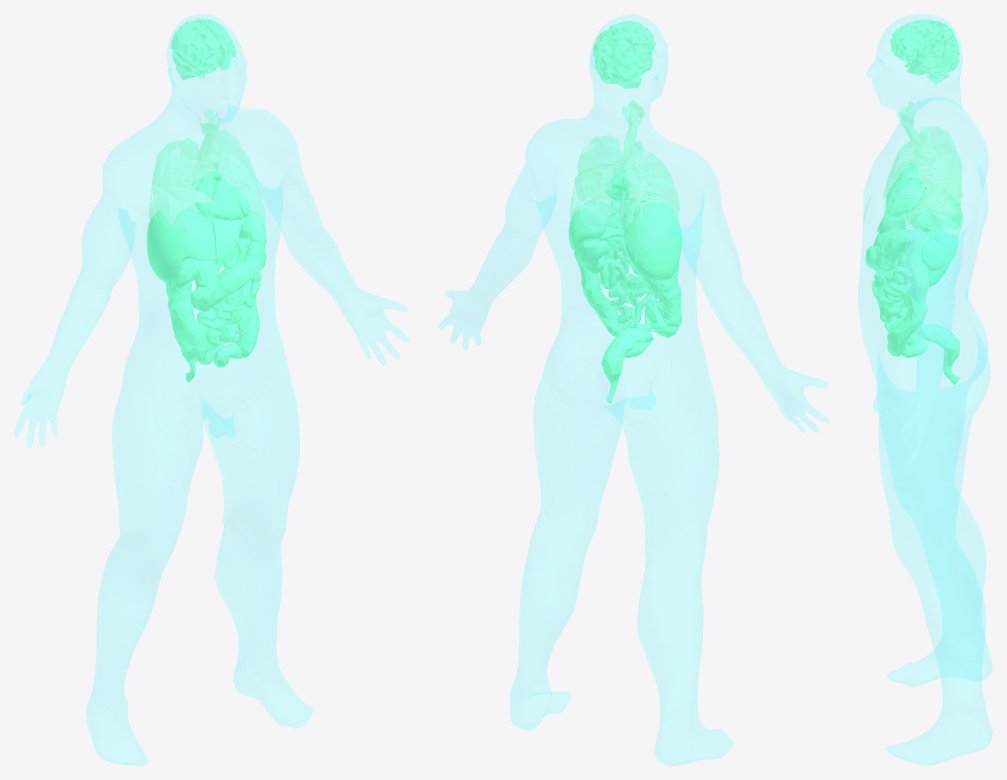
File: body.glb
3 renders of one model, left to right at view 1: azimuth 30°, elevation 25°; view 2: azimuth 150°, elevation 25°; view 3: azimuth 270°, elevation 25°, orthographic. The views are drawn at different scales.
Parts seen in each view (by area): view 1: Skin, Lung, LargeInt, Liver, Brain, SmallInt, Heart; view 2: Skin, Lung, LargeInt, Liver, Brain, SmallInt, Spleen, Kidney_L, Heart; view 3: Skin, Lung, LargeInt, Brain, SmallInt, Liver, Heart, Spleen.
Part boxes in pixels (bbox=[...]): Skin: bbox=[15, 14, 408, 765]; Lung: bbox=[148, 108, 265, 238]; LargeInt: bbox=[166, 210, 266, 382]; Liver: bbox=[147, 208, 239, 282]; Brain: bbox=[171, 18, 236, 80]; SmallInt: bbox=[197, 237, 265, 351]; Heart: bbox=[192, 169, 250, 220]; Skin: bbox=[439, 14, 828, 765]; Lung: bbox=[570, 100, 679, 247]; LargeInt: bbox=[574, 201, 681, 403]; Liver: bbox=[610, 200, 682, 280]; Brain: bbox=[593, 20, 656, 88]; SmallInt: bbox=[594, 224, 658, 329]; Spleen: bbox=[568, 209, 606, 250]; Kidney_L: bbox=[576, 240, 608, 273]; Heart: bbox=[606, 165, 651, 203]; Skin: bbox=[858, 14, 992, 765]; Lung: bbox=[883, 101, 963, 235]; LargeInt: bbox=[865, 228, 960, 384]; Brain: bbox=[890, 19, 959, 84]; SmallInt: bbox=[871, 228, 917, 333]; Liver: bbox=[876, 188, 961, 234]; Heart: bbox=[886, 163, 926, 216]; Spleen: bbox=[921, 217, 958, 271].
Size of the model in its own units: 1.05 by 1.83 by 0.3174.
